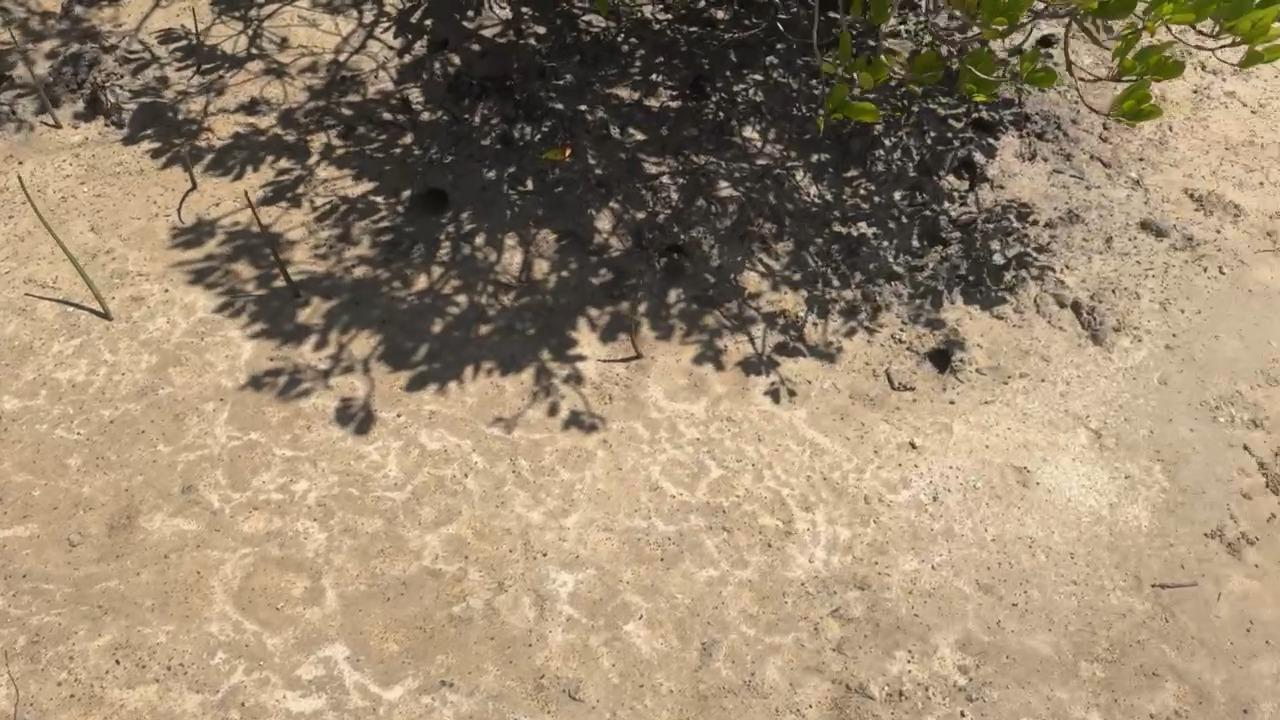Tree: (15, 172, 115, 322), (242, 188, 301, 300), (5, 20, 65, 130), (628, 300, 645, 359), (178, 142, 198, 191), (189, 5, 202, 72)
